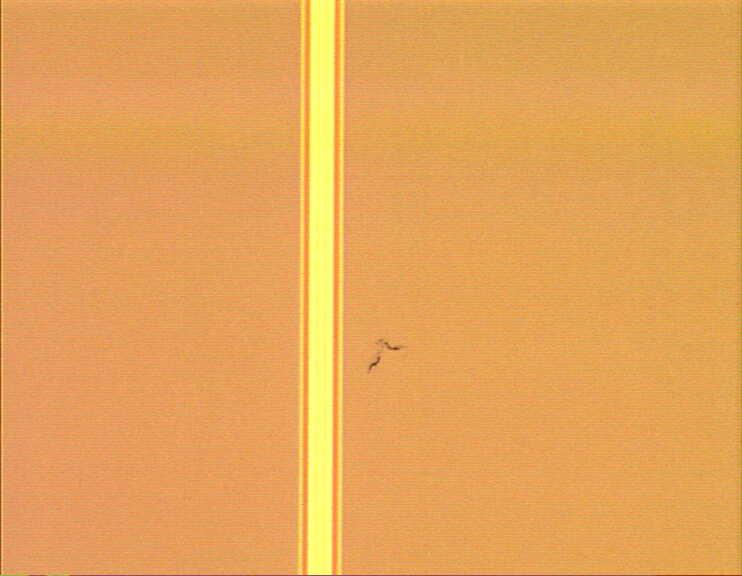PIQ PARTICLE: (363, 336, 406, 375)
